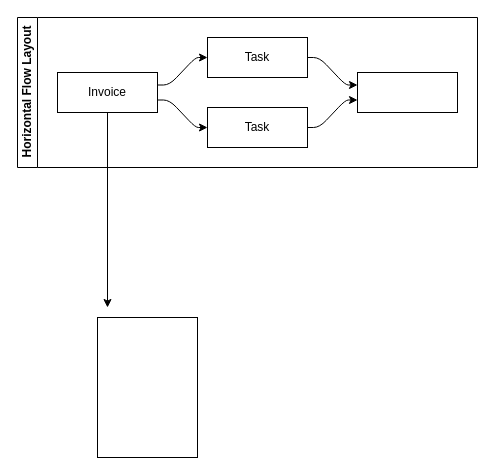
Image size: 495x475. Some labels were removed from this diagram. Here are the shapes that lost their labels. From the top down, the centre of each, then its label:
the point at 407,92: End
the point at 147,387: InvoiceProps - id
